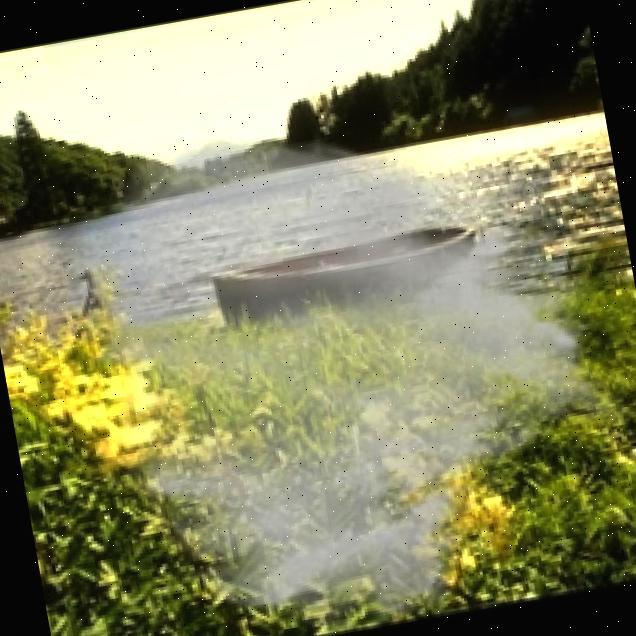smoke: (33, 65, 636, 636)
